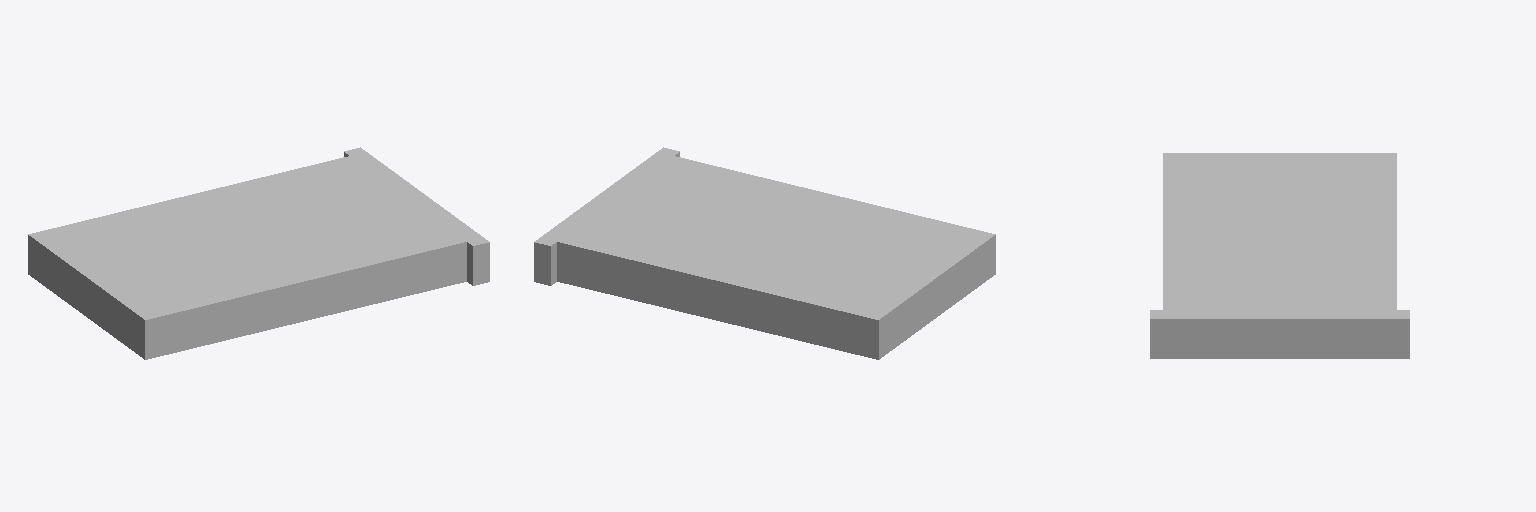
File: (16) HP Gen10.obj
3 renders of one model, left to right at view 1: azimuth 30°, elevation 25°; view 2: azimuth 150°, elevation 25°; view 3: azimuth 270°, elevation 25°, orthographic.
Visible parts, largest first — view 1: unit_Cube.001; view 2: unit_Cube.001; view 3: unit_Cube.001.
Boxes of the visible parts, <box> form: unit_Cube.001: <box>28,147,489,359</box>; unit_Cube.001: <box>534,147,995,359</box>; unit_Cube.001: <box>1150,153,1409,358</box>.
Size of the model in its own units: 0.8 by 0.09 by 0.53.